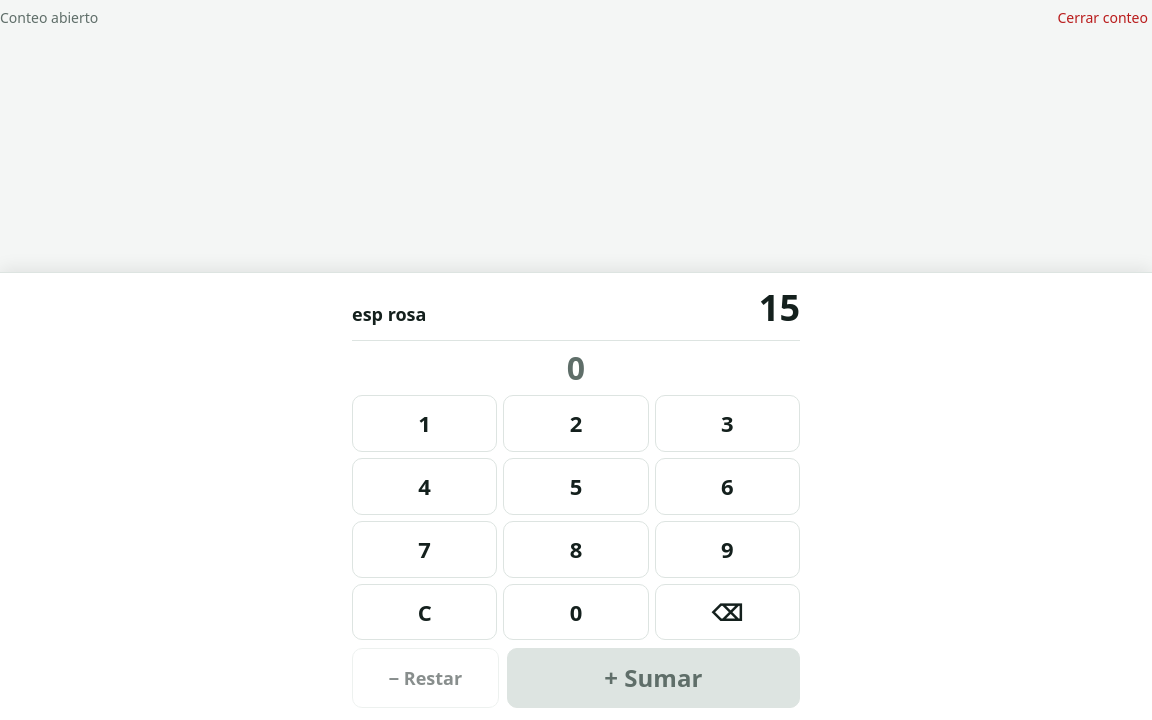
Scenario: Conteo · con un conteo abierto (teclado para una mano) › restar más que el total no envía nada, avisa y conserva la cantidad
Click the button "2": (576, 424) [503,395,649,452]
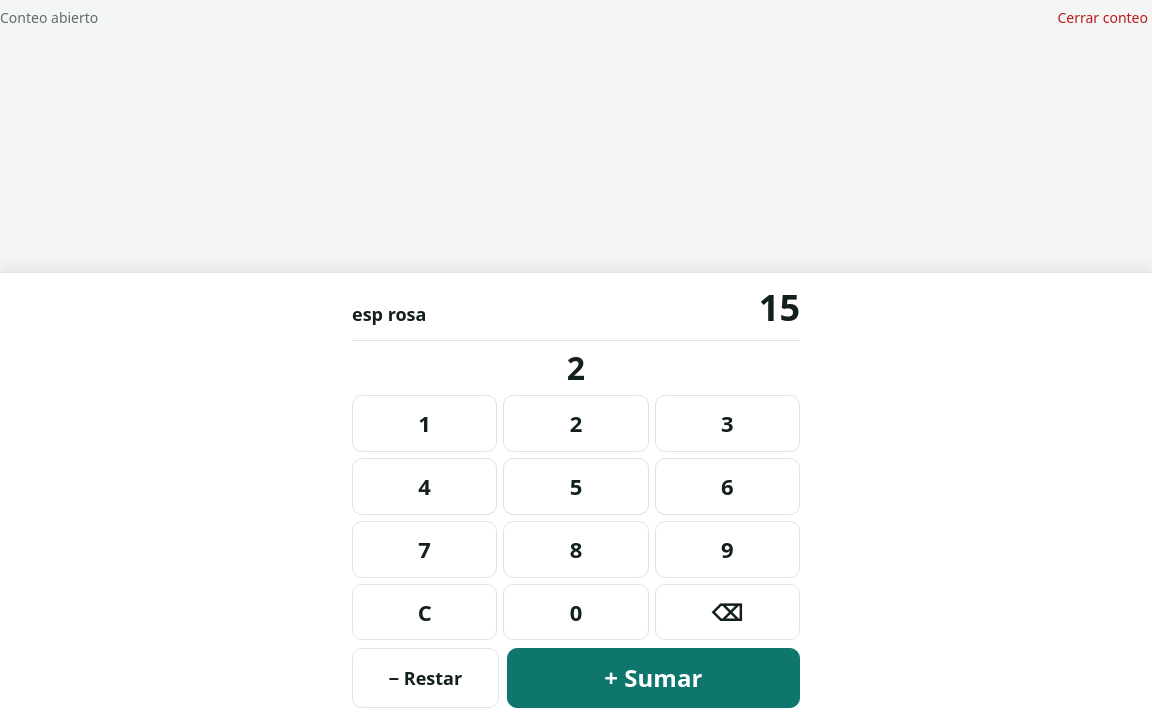
Click the button "0": (576, 612) [503,584,649,640]
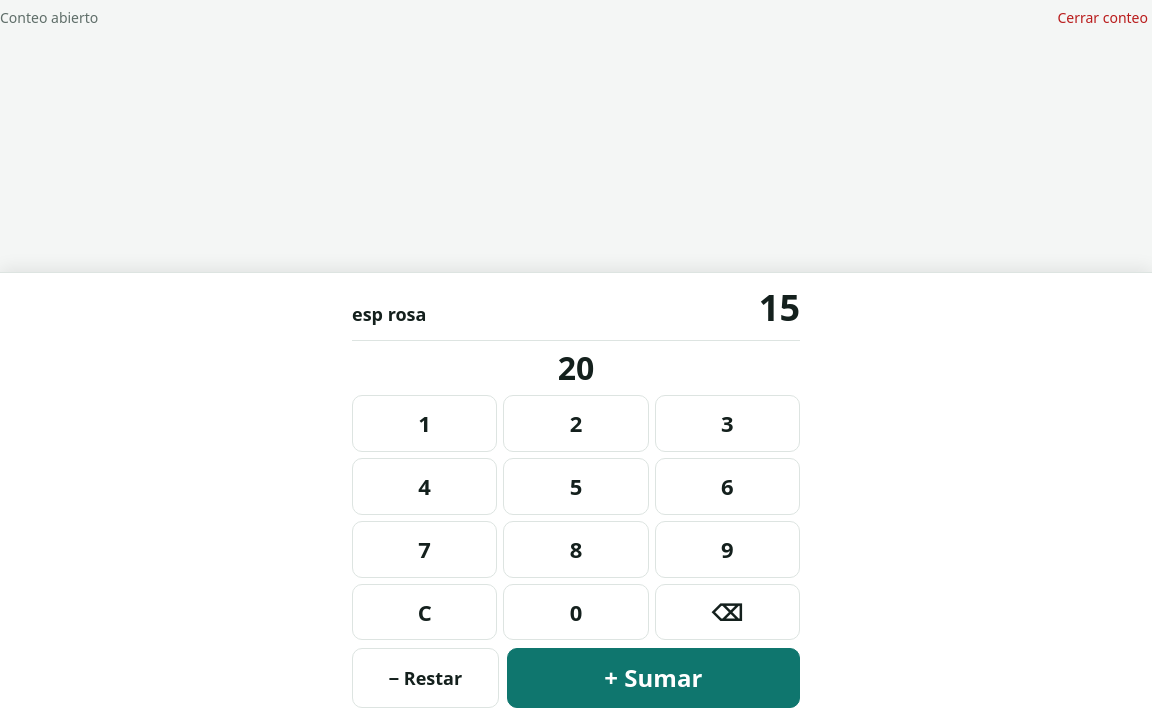
Click the button "− Restar": (425, 678) [352,648,499,708]
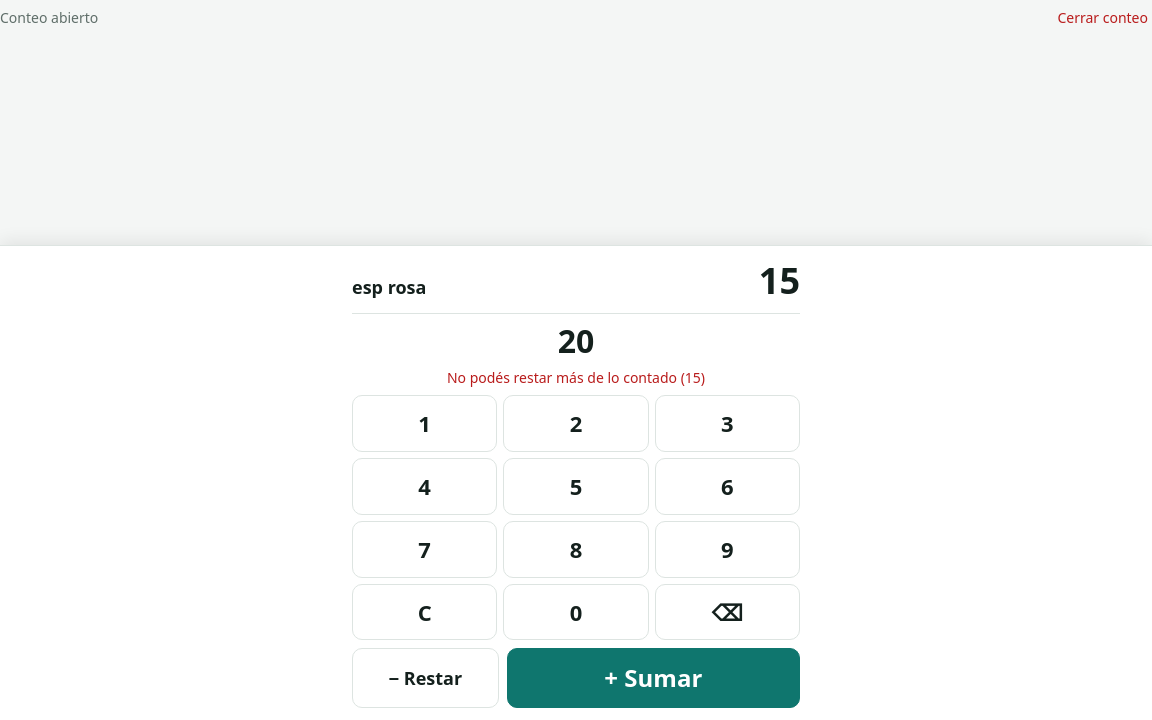
Result: the text "No podés restar más de lo contado (15)" is shown at [447,368,705,387]
